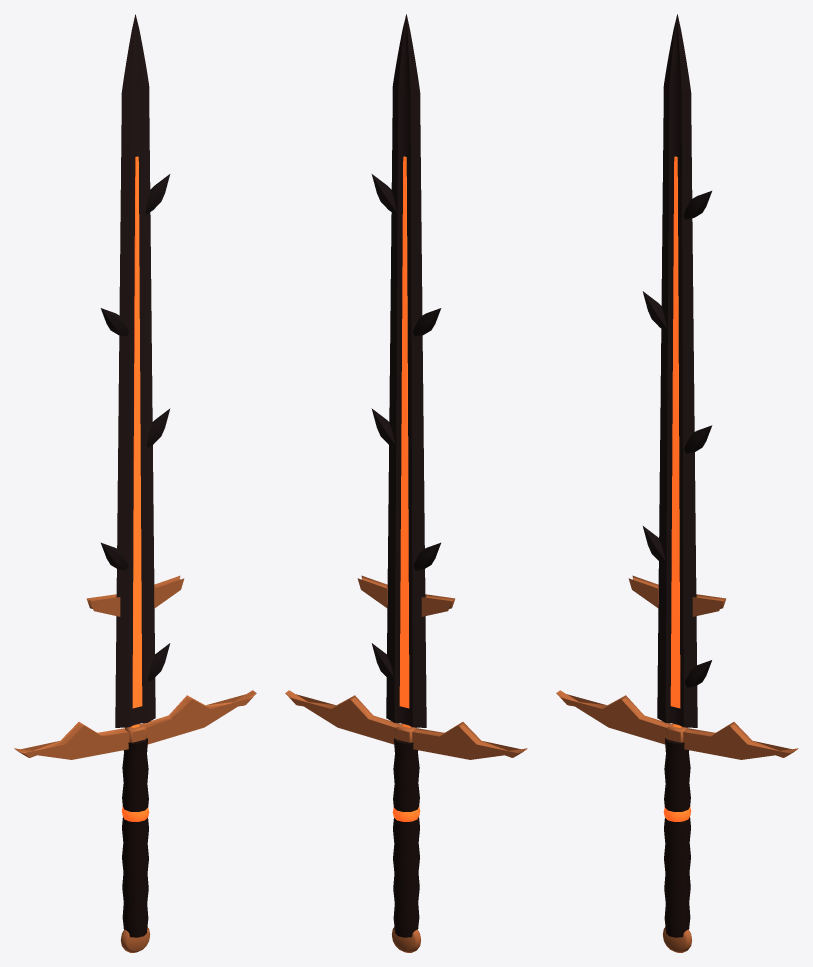
The model's file is asc_worldforger_weapon.glb.
3 views of the same model, side by side, from view 1: azimuth 30°, elevation 25°; view 2: azimuth 150°, elevation 25°; view 3: azimuth 330°, elevation 25° (orthographic).
Visible parts, largest first — view 1: asc_worldforger_weapon; view 2: asc_worldforger_weapon; view 3: asc_worldforger_weapon.
Boxes of the visible parts, box(x1,y1,x2,y2) form: asc_worldforger_weapon: box(14, 14, 256, 952); asc_worldforger_weapon: box(285, 14, 527, 952); asc_worldforger_weapon: box(556, 14, 798, 952).
Bounding box in the file's own units: 0.4369 × 1.64 × 0.0418.
